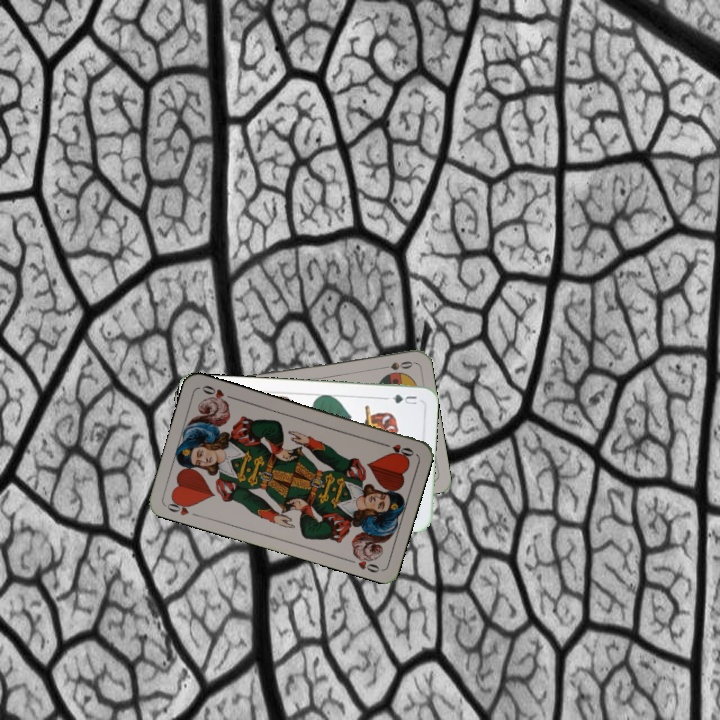GU: (382, 390, 419, 407)
HO: (377, 439, 416, 459), (163, 495, 196, 518)
SO: (375, 357, 416, 373)
